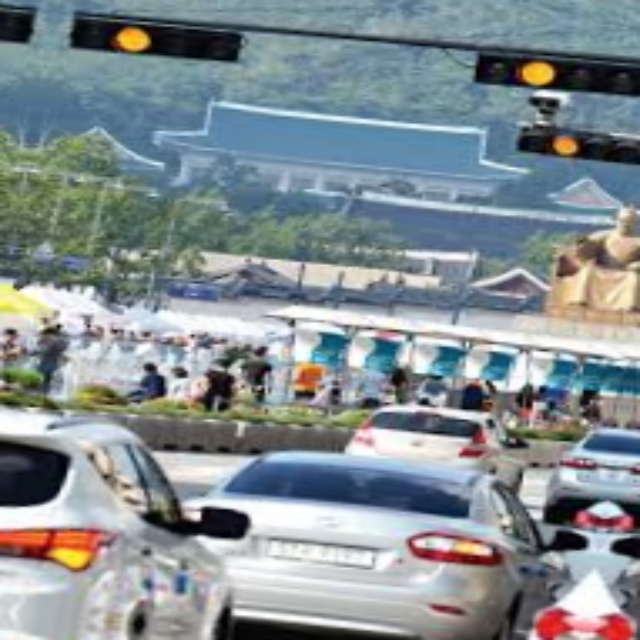yellow_light: (112, 25, 158, 55), (516, 59, 559, 86), (550, 134, 581, 154)
